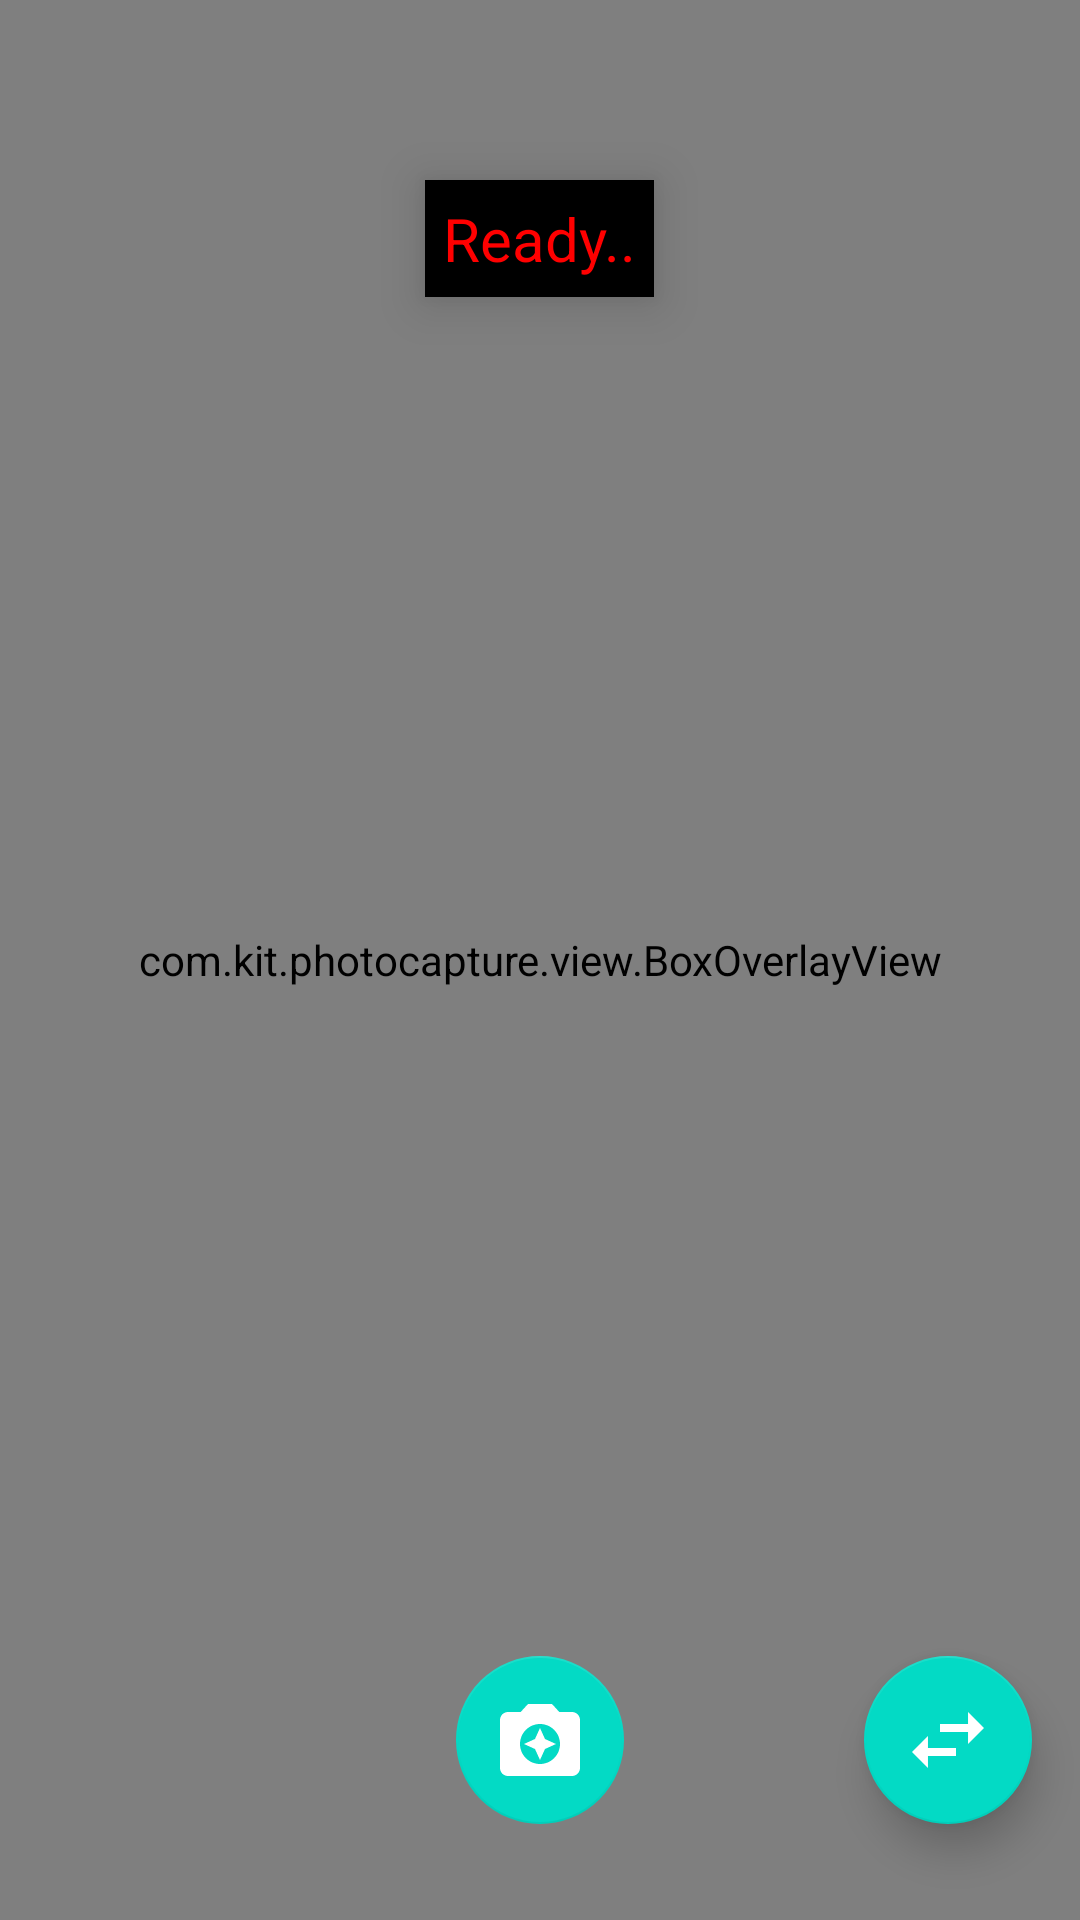

Where icons sit on this 1080*1920 app screen, as (x1, y1, x2, y2):
camera enhance: (456, 1656, 624, 1824)
swap horiz: (864, 1656, 1032, 1824)
